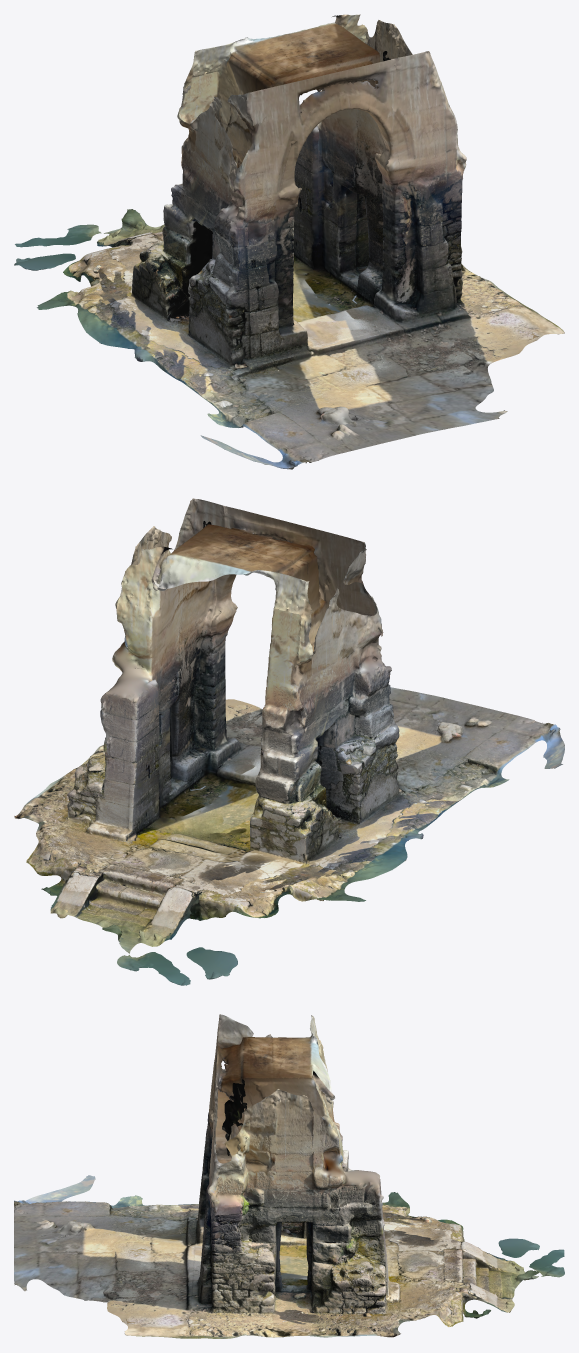
Rendered from site-b.glb.
3 renders of one model, top to bottom at view 1: azimuth 30°, elevation 25°; view 2: azimuth 150°, elevation 25°; view 3: azimuth 270°, elevation 25°, orthographic. The views are drawn at different scales.
Visible parts, largest first — view 1: Gate and waterside platform.002, Gate and waterside platform.001, Gate and waterside platform; view 2: Gate and waterside platform.002, Gate and waterside platform, Gate and waterside platform.001; view 3: Gate and waterside platform.002, Gate and waterside platform, Gate and waterside platform.001.
Part boxes in pixels (bbox=[...]): Gate and waterside platform.002: bbox=[63, 22, 545, 469]; Gate and waterside platform.001: bbox=[20, 18, 504, 425]; Gate and waterside platform: bbox=[14, 14, 564, 468]; Gate and waterside platform.002: bbox=[14, 524, 564, 951]; Gate and waterside platform: bbox=[15, 503, 560, 985]; Gate and waterside platform.001: bbox=[38, 498, 464, 985]; Gate and waterside platform.002: bbox=[14, 1016, 537, 1338]; Gate and waterside platform: bbox=[14, 1014, 564, 1338]; Gate and waterside platform.001: bbox=[19, 1055, 564, 1335].
Bounding box in the file's own units: 7.86 × 5.83 × 11.71.
3 materials, 3 textured.
